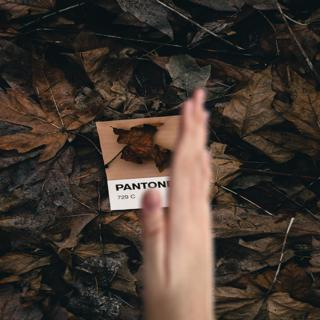Right: (140, 84, 226, 313)
